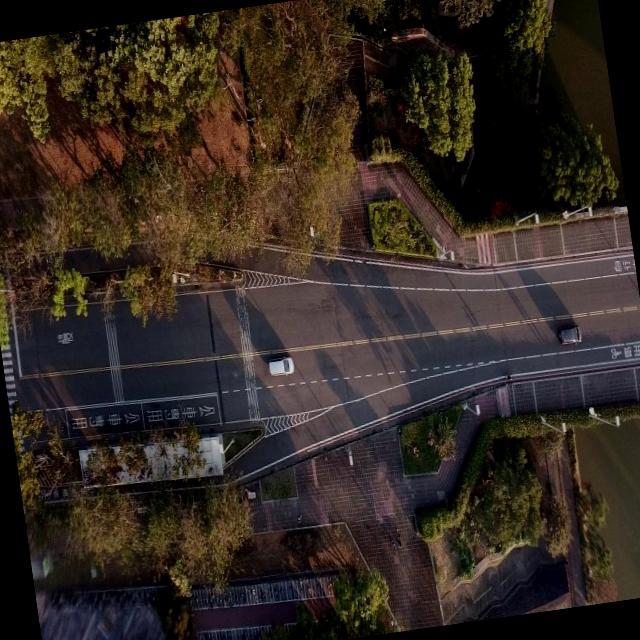car: (264, 351, 296, 379), (556, 321, 582, 345)
